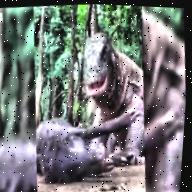boar: (30, 93, 134, 192)
